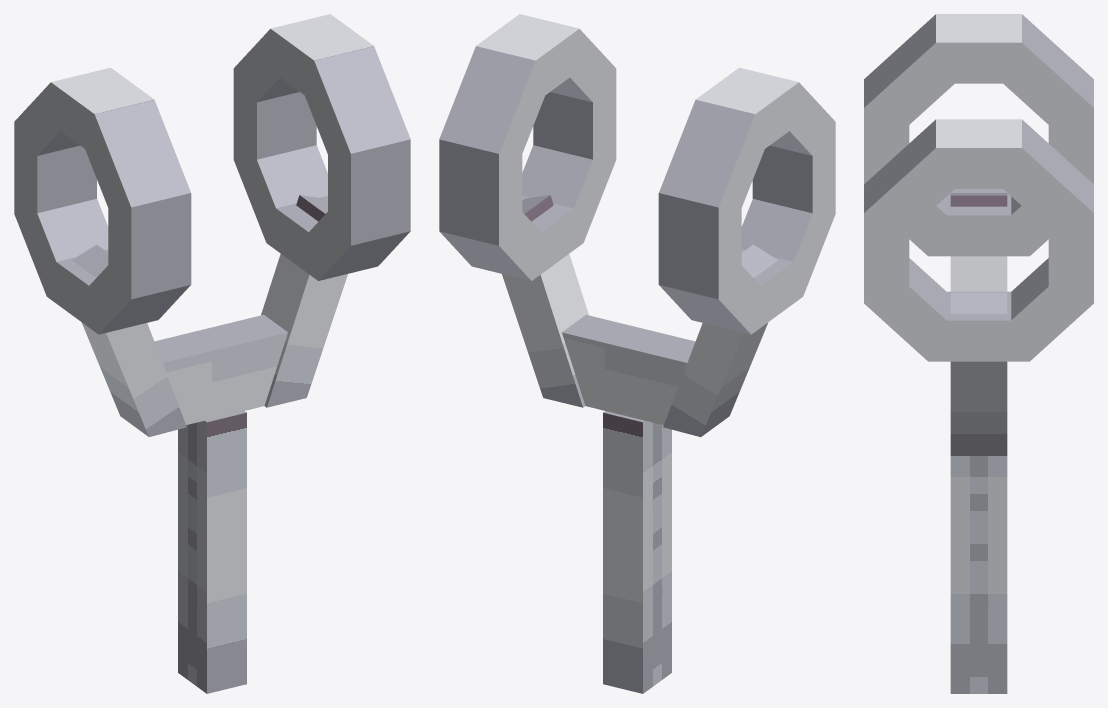
File: overhead_pillar_concrete_truss_hanger.obj
The picture shows the model from 3 angles, left to right: view 1: azimuth 30°, elevation 25°; view 2: azimuth 150°, elevation 25°; view 3: azimuth 270°, elevation 25°; orthographic projection.
Parts seen in each view (by area): view 1: hanger_pole; view 2: hanger_pole; view 3: hanger_pole.
Boxes of the visible parts, <box> form: hanger_pole: <box>14,14,410,693</box>; hanger_pole: <box>439,14,835,693</box>; hanger_pole: <box>864,14,1093,693</box>.
Bounding box in the file's own units: 0.875 × 1.84 × 0.6348.
